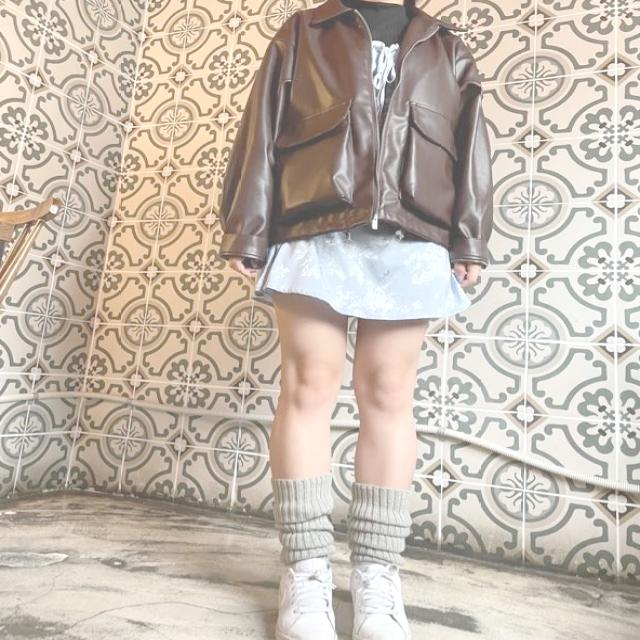jacket: (220, 0, 497, 270)
skirt: (260, 220, 468, 324)
